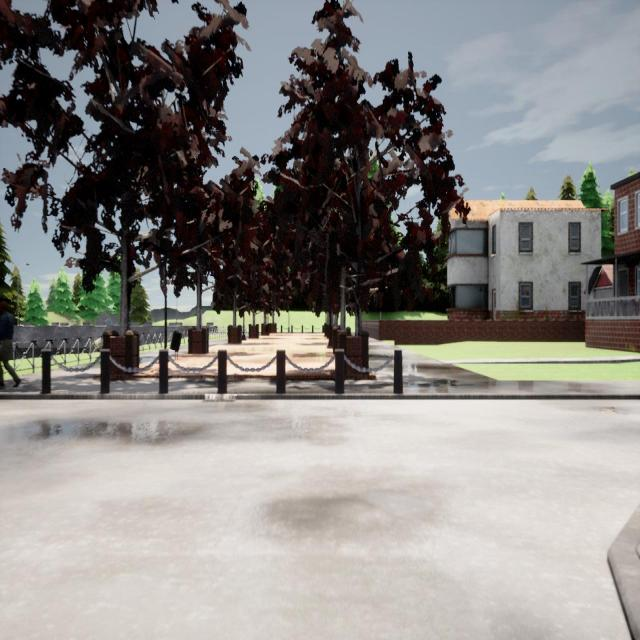Pedestrian: (1, 298, 22, 390)
